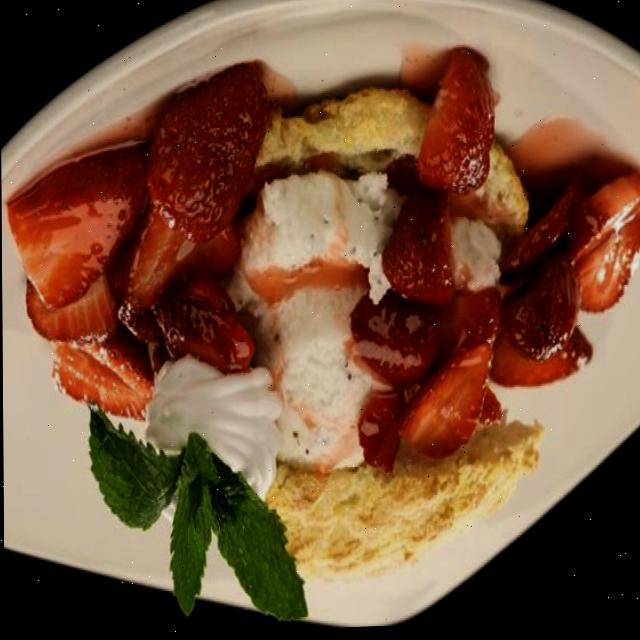蛋糕甜品: (2, 35, 640, 639)
